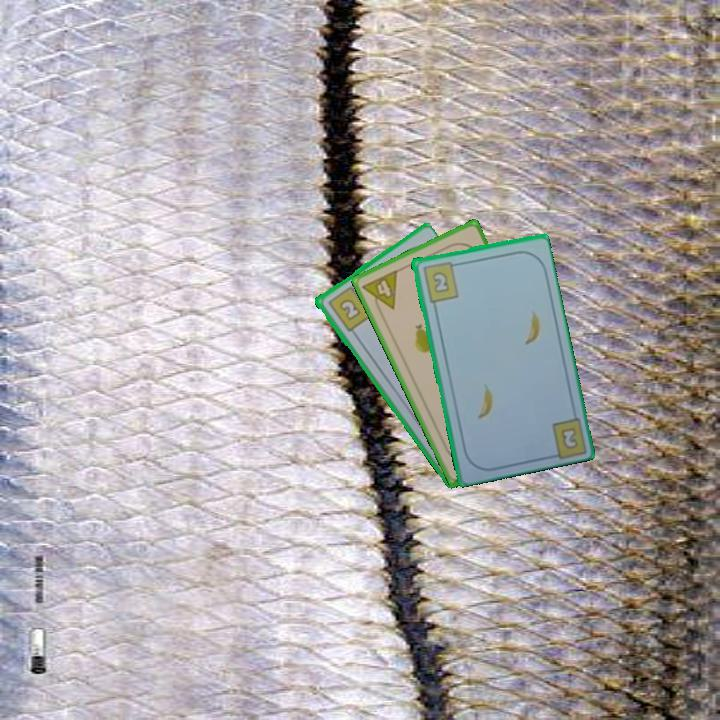2b: (324, 281, 374, 334), (419, 258, 461, 305), (557, 424, 581, 452)
4p: (359, 266, 400, 318)
